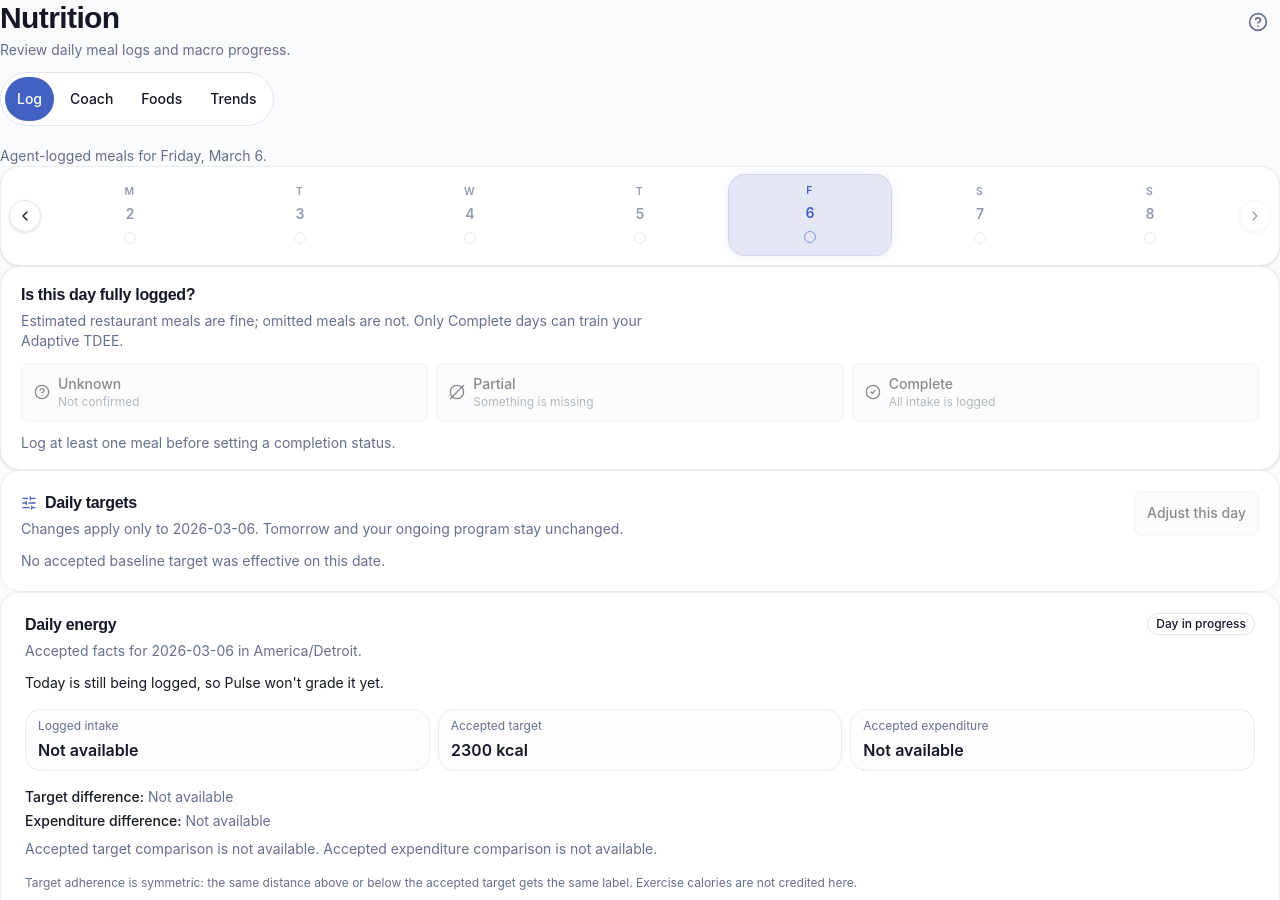
Test: NutritionPage › opens contextual nutrition help from the page header
Click the button named "Help". click: click(1258, 22)
box: [1236,0,1279,44]
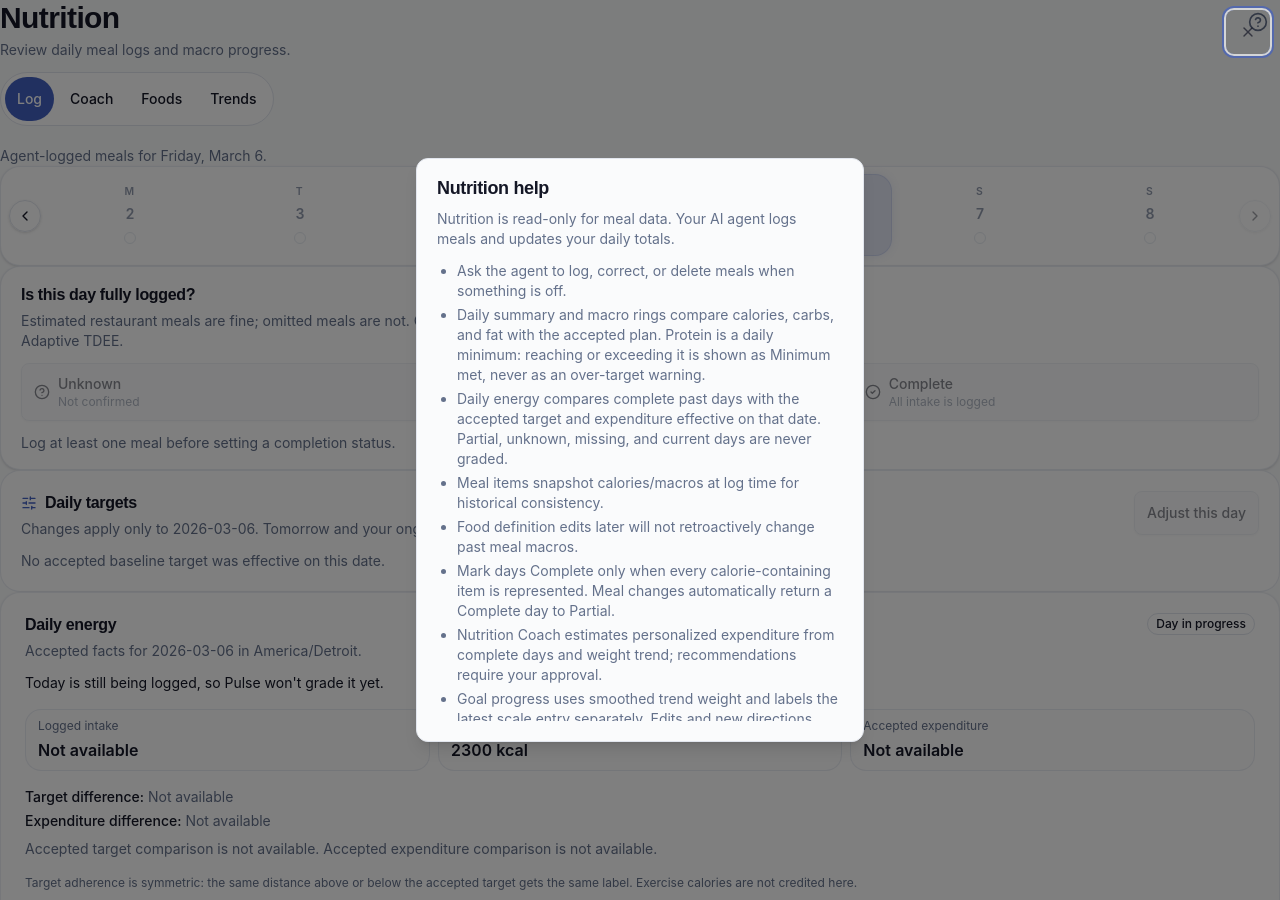
Expected: the heading "Nutrition help" is shown, [437,178,549,198]
Expected: the text "Nutrition is read-only for meal data" is shown, [437,210,796,247]
Expected: the list item "Food definition edits later will not retroactively change" is shown, [457,518,815,555]
